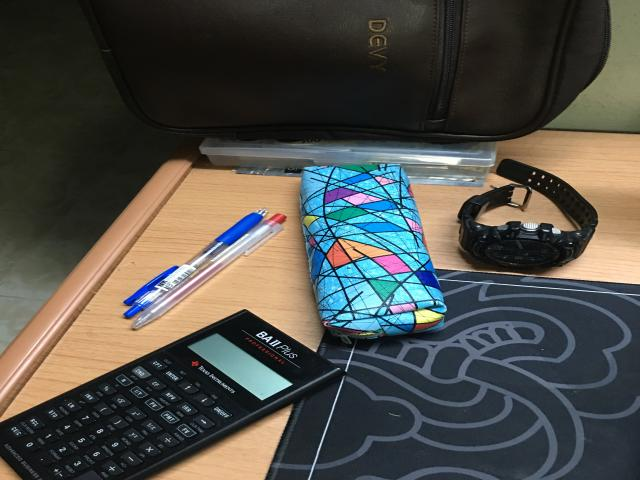Pen: (122, 211, 285, 332)
Watch: (458, 159, 598, 269)
